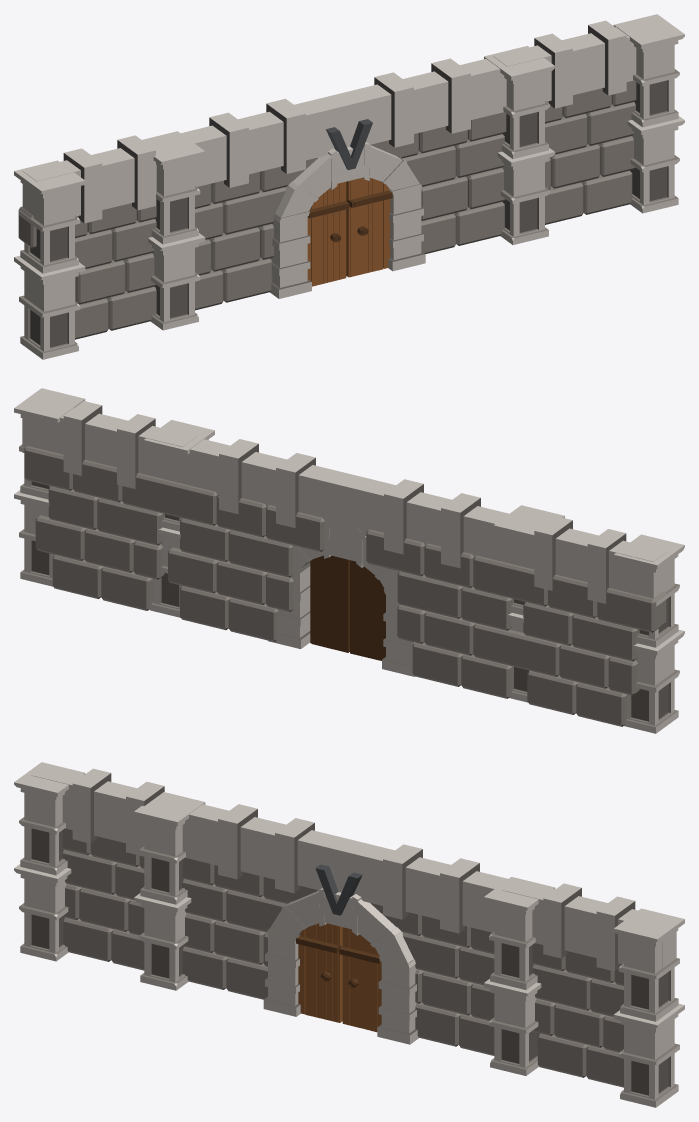
Rendered from PORTAL_OR.fbx.
3 renders of one model, top to bottom at view 1: azimuth 30°, elevation 25°; view 2: azimuth 150°, elevation 25°; view 3: azimuth 330°, elevation 25°, orthographic.
Parts seen in each view (by area): view 1: Cube.244; view 2: Cube.244; view 3: Cube.244.
Part boxes in pixels (x1,y1,x2,y2): Cube.244: [14, 14, 684, 359]; Cube.244: [14, 388, 684, 733]; Cube.244: [14, 762, 684, 1107].
Bounding box in the file's own units: 13135 × 3453 × 1006.
